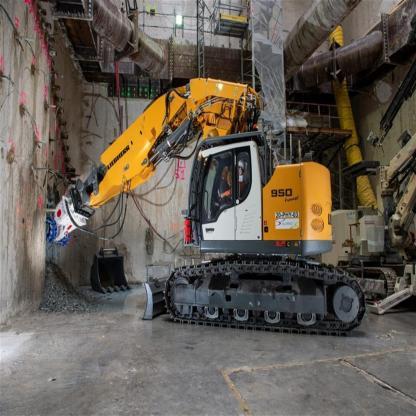excavator: (52, 64, 388, 356)
